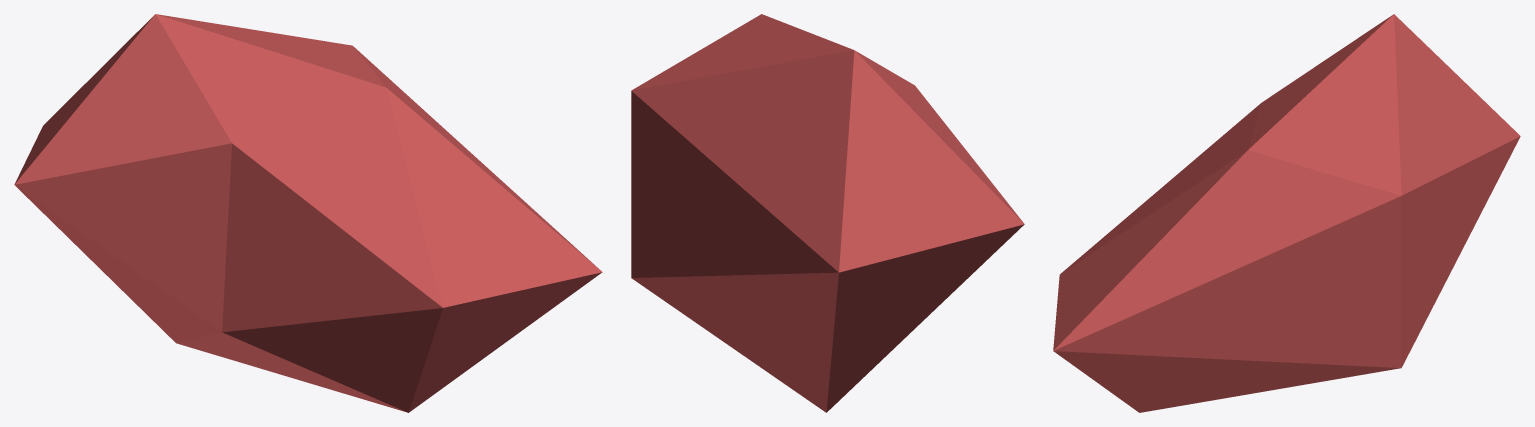
Rendered from kidney.fbx.
The picture shows the model from 3 angles, left to right: view 1: azimuth 30°, elevation 25°; view 2: azimuth 150°, elevation 25°; view 3: azimuth 270°, elevation 25°; orthographic projection. The views are drawn at different scales.
Visible parts, largest first — view 1: _pPlatonic1; view 2: _pPlatonic1; view 3: _pPlatonic1.
Boxes of the visible parts, x1,y1,x2,y2 form: _pPlatonic1: (14, 14, 602, 412); _pPlatonic1: (631, 14, 1024, 412); _pPlatonic1: (1053, 14, 1520, 412).
Size of the model in its own units: 163 by 123 by 155.
